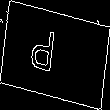P_S: (40, 27, 70, 83)
